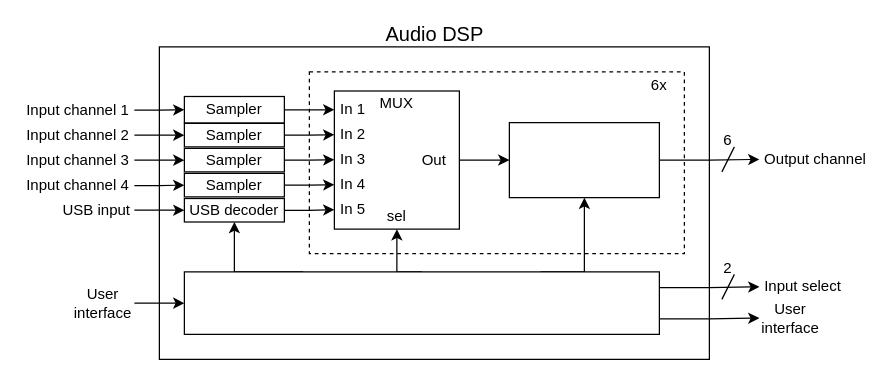
This 893x381 diagram has some shape labels left out. The shapes that lost their labels are listed below. From the top down, each one's box as (x1, y1, x2, y2) in pixels, then its label:
(508, 121, 659, 198): Signal processor
(183, 271, 659, 334): Controller
